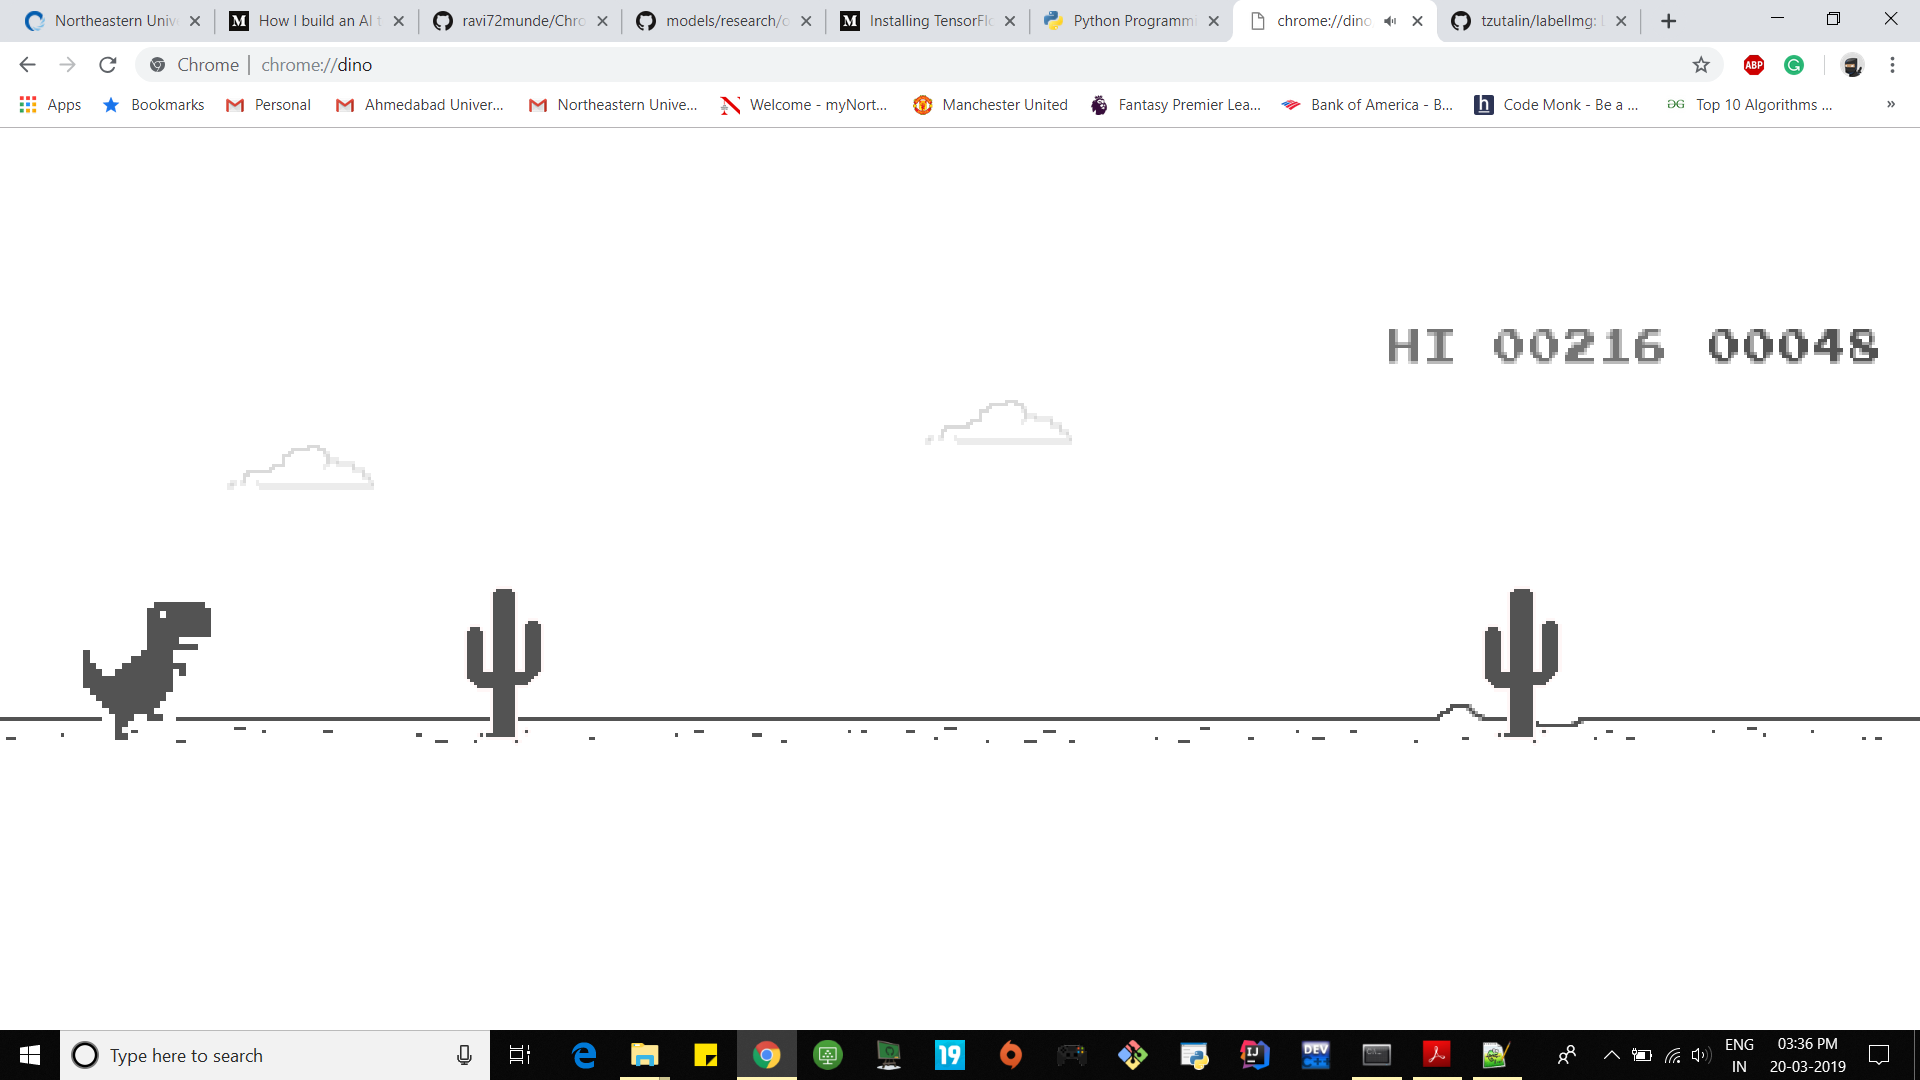cactus-1: (1484, 589, 1559, 744), (465, 587, 541, 738)
dino: (80, 600, 214, 738)
